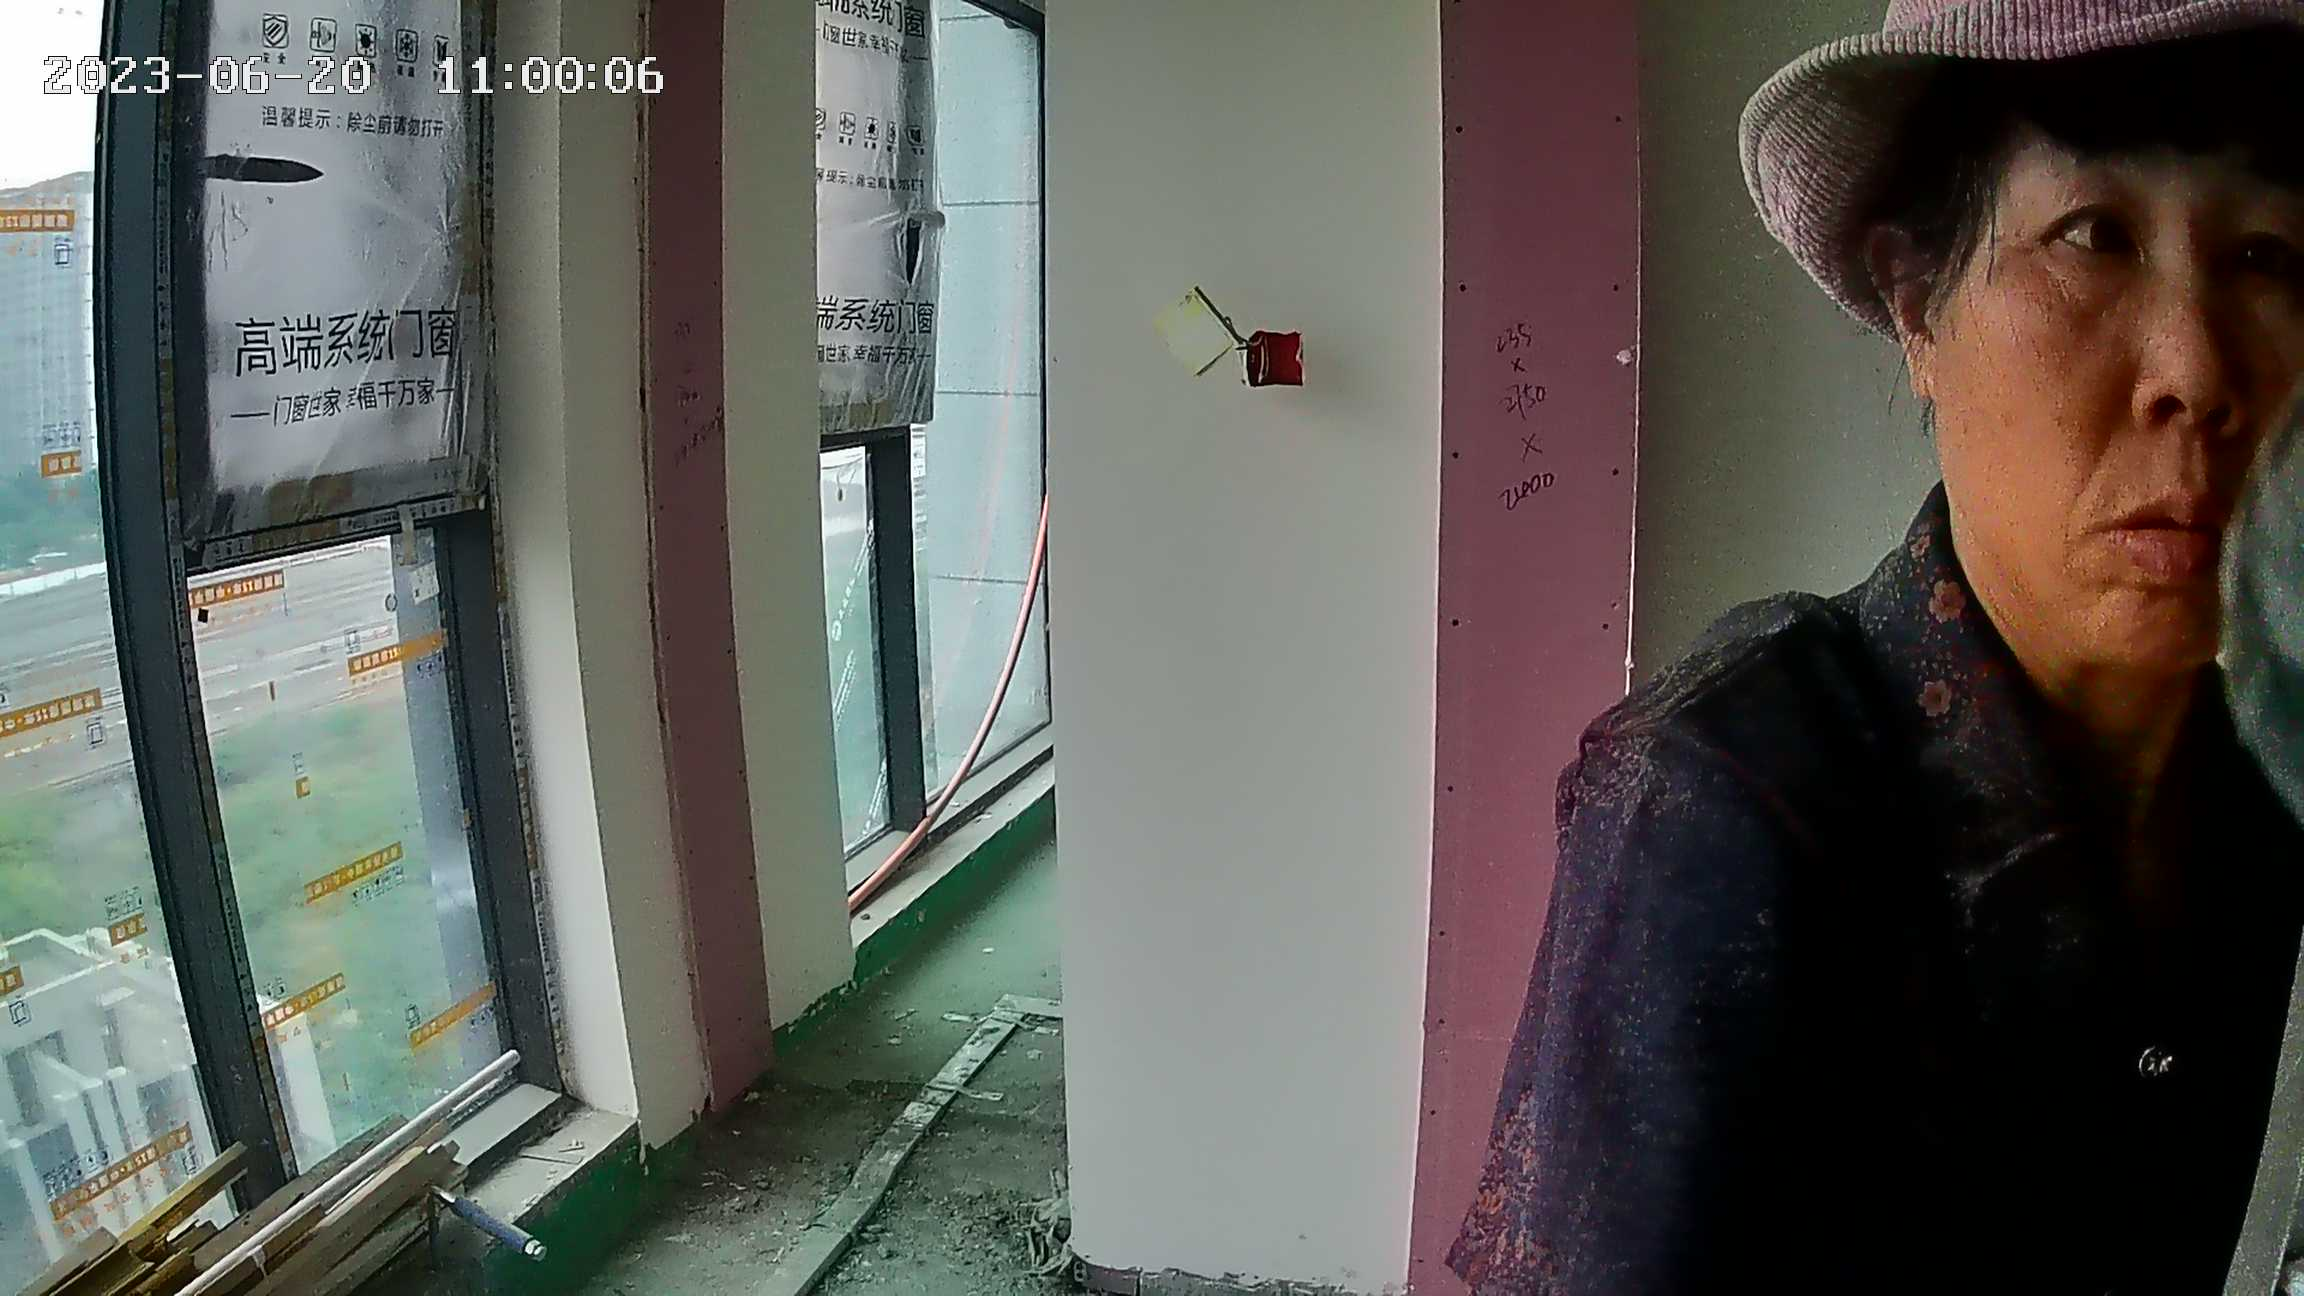people: (1535, 3, 2303, 1296)
window: (15, 1, 503, 1288), (831, 1, 1044, 891)
